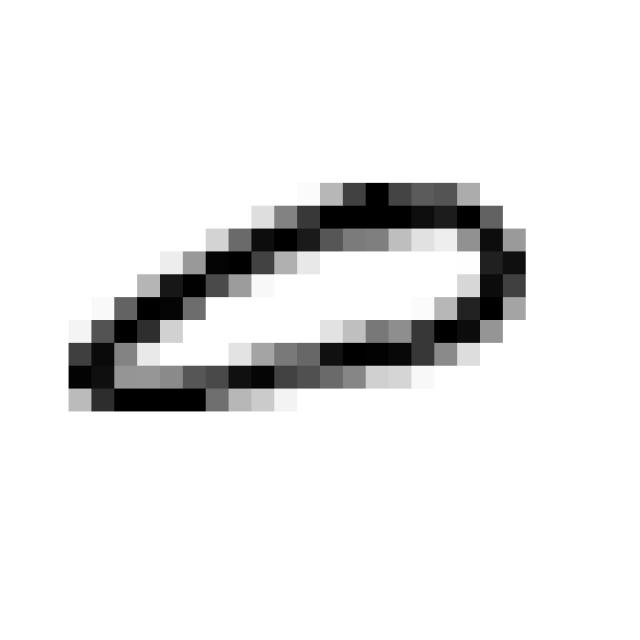5 -five-: (50, 162, 539, 430)
